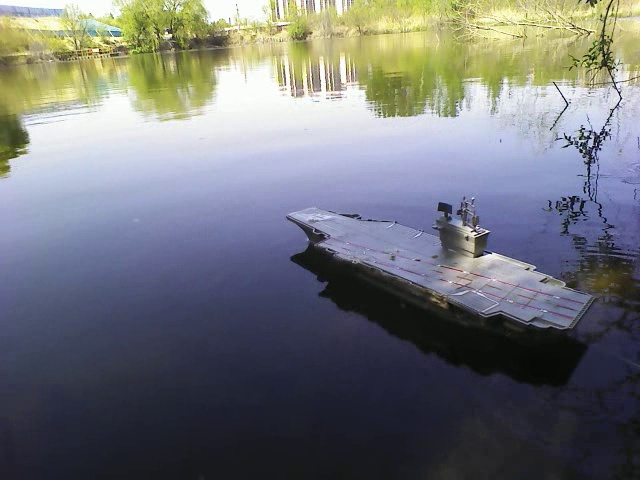aircraft_carrier: (285, 198, 597, 342)
